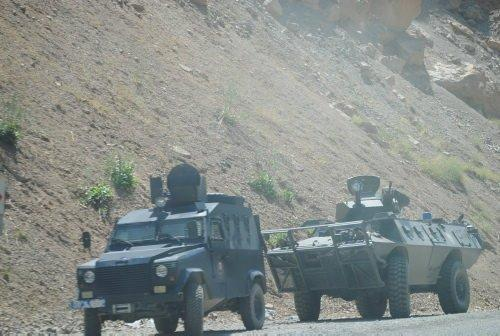armored_car: (68, 164, 267, 336)
tank: (260, 174, 483, 322)
